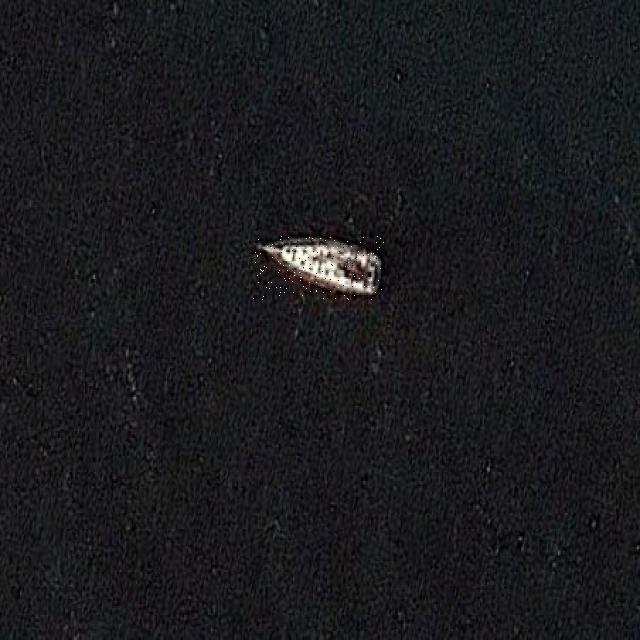boat: (253, 236, 384, 300)
